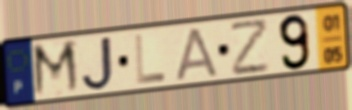9: (276, 13, 313, 72)
A: (174, 25, 221, 82)
J: (79, 34, 116, 94)
L: (133, 32, 169, 87)
M: (30, 38, 83, 100)
Z: (228, 16, 272, 78)
